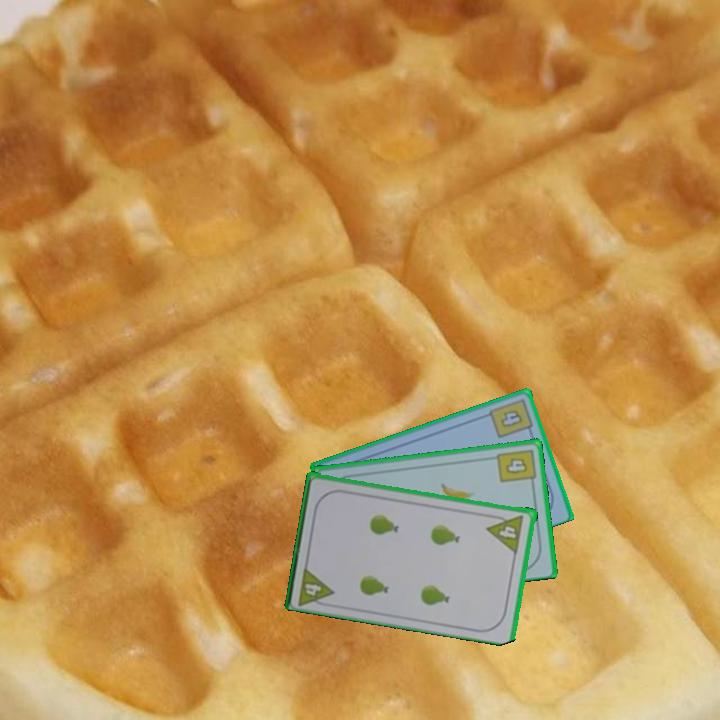4b: (486, 395, 536, 441), (493, 446, 538, 488)
4p: (294, 562, 337, 610), (484, 511, 527, 555)
